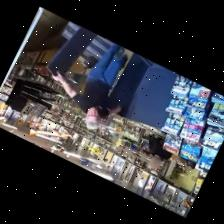person: (52, 43, 126, 128), (148, 134, 171, 167)
